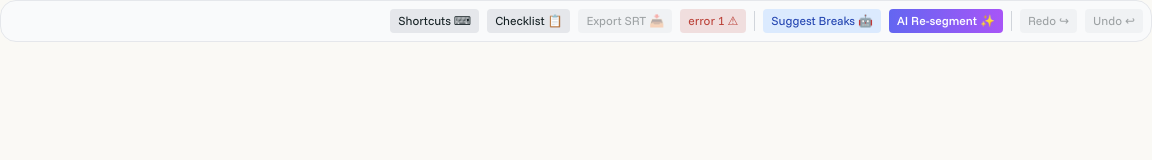
Test case: the timing warnings › folds the list away again
Click the button "⚠ 1 error".
click(713, 21)  # box [680,9,746,33]
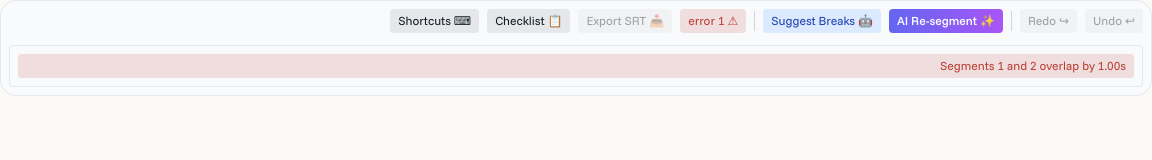
Click the button "⚠ 1 error".
click(713, 21)  # box [680,9,746,33]
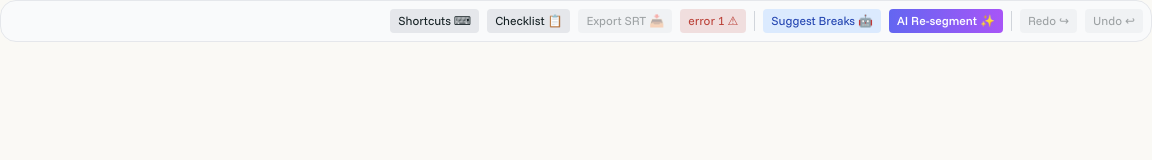
Expected: the text "overlap by" is gone
